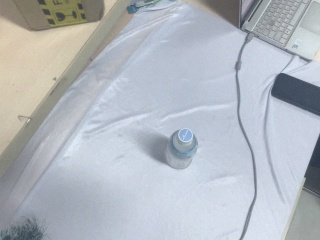bottle: (160, 128, 199, 170)
mouse: (270, 71, 320, 121)
